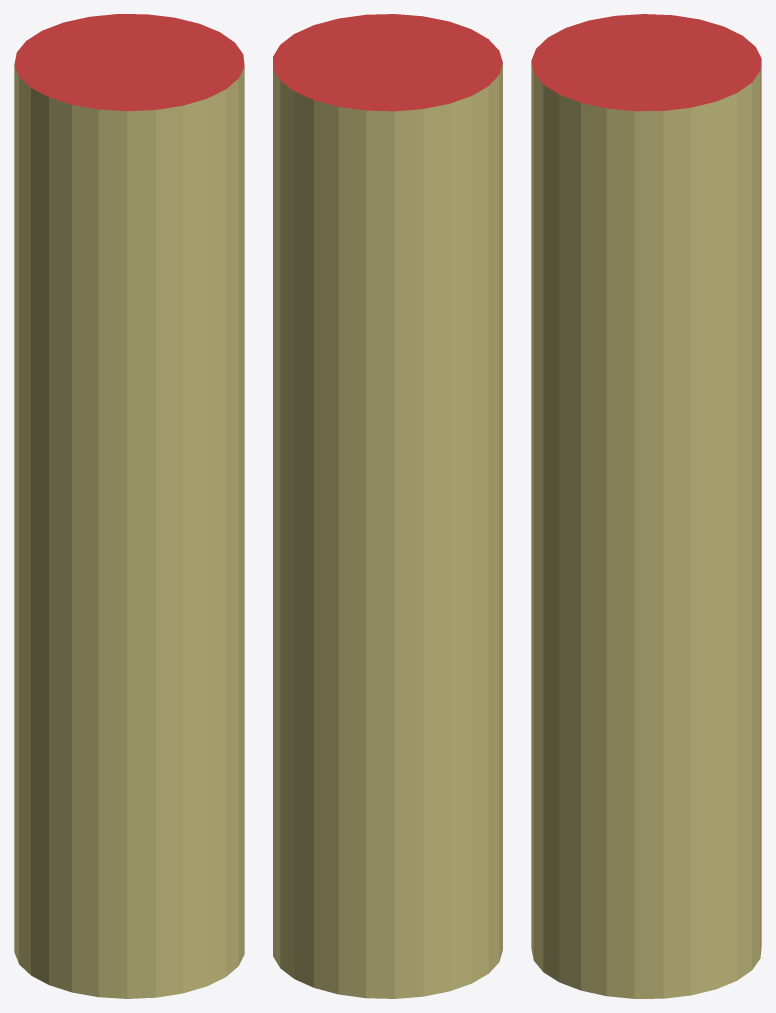
The picture shows the model from 3 angles, left to right: view 1: azimuth 30°, elevation 25°; view 2: azimuth 150°, elevation 25°; view 3: azimuth 270°, elevation 25°; orthographic projection.
Size of the model in its own units: 3.12 by 3.12 by 13.28.
